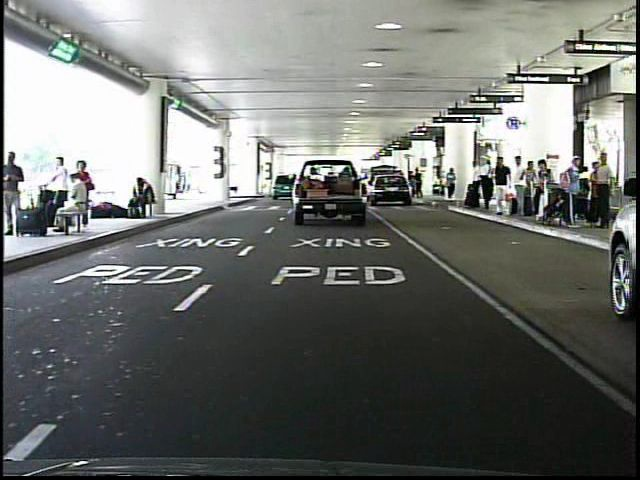person: (5, 151, 34, 239), (489, 154, 514, 222), (510, 154, 531, 220), (464, 155, 485, 213), (443, 166, 459, 204), (414, 167, 425, 203), (407, 168, 416, 201)
